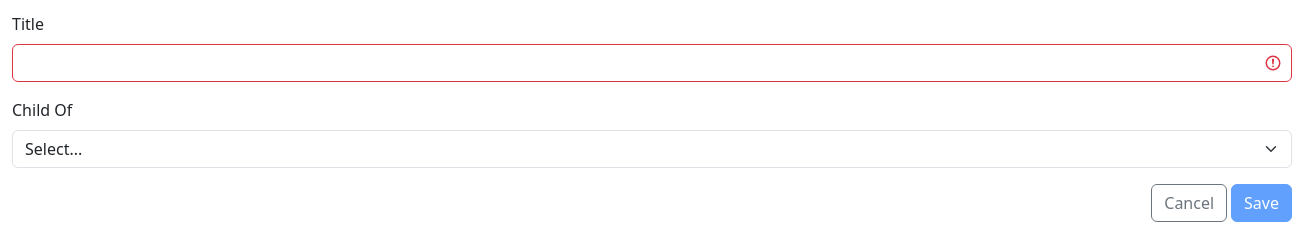
it: HeadingForm component › validates › form with enabling save button
The image size is (1304, 239).
Expected: the button with test id "heading-form-save-button" is disabled, [1231, 184, 1292, 222]
Note: Make title valid
Type "A title here" into the field labelled "Title" at (652, 63), box [12, 44, 1292, 82]
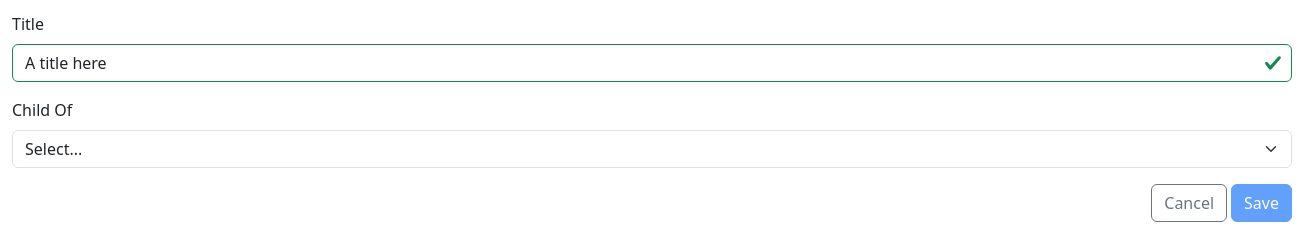
Expected: the button with test id "heading-form-save-button" is disabled, [1231, 184, 1292, 222]
Note: Make child of valid
Select "Second segment" in the dropdown labelled "Child Of" at (652, 149), box [12, 130, 1292, 168]
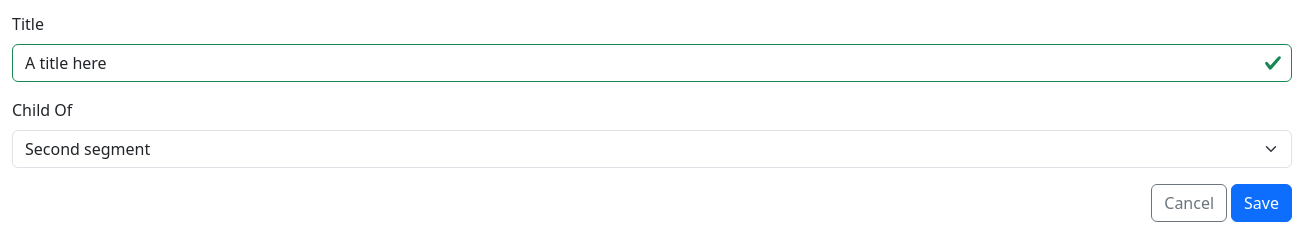
Result: the button with test id "heading-form-save-button" is enabled at [1231, 184, 1292, 222]
Note: Make title invalid
Replace the text in the field labelled "Title" with "z" at (652, 63), box [12, 44, 1292, 82]
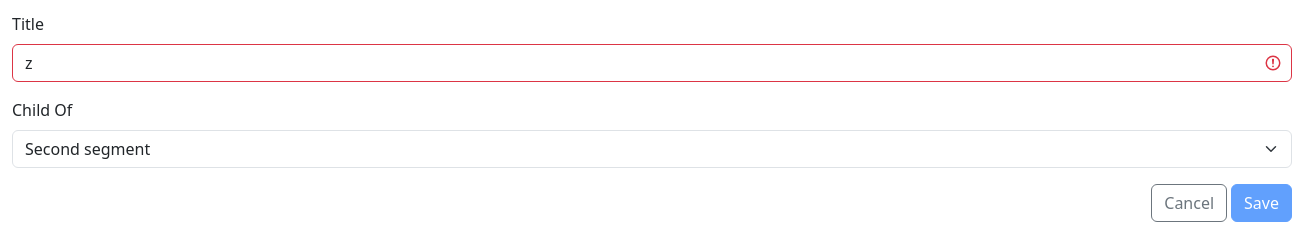
Result: the button with test id "heading-form-save-button" is disabled at [1231, 184, 1292, 222]
